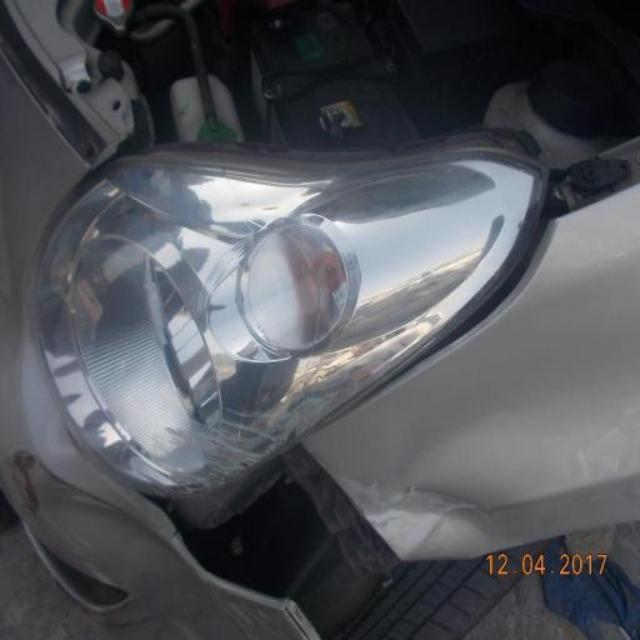crack: (38, 457, 124, 516)
dent: (340, 473, 523, 559)
lamp broken: (120, 411, 313, 498)
no part: (141, 444, 404, 637)
rub: (13, 450, 43, 535)
